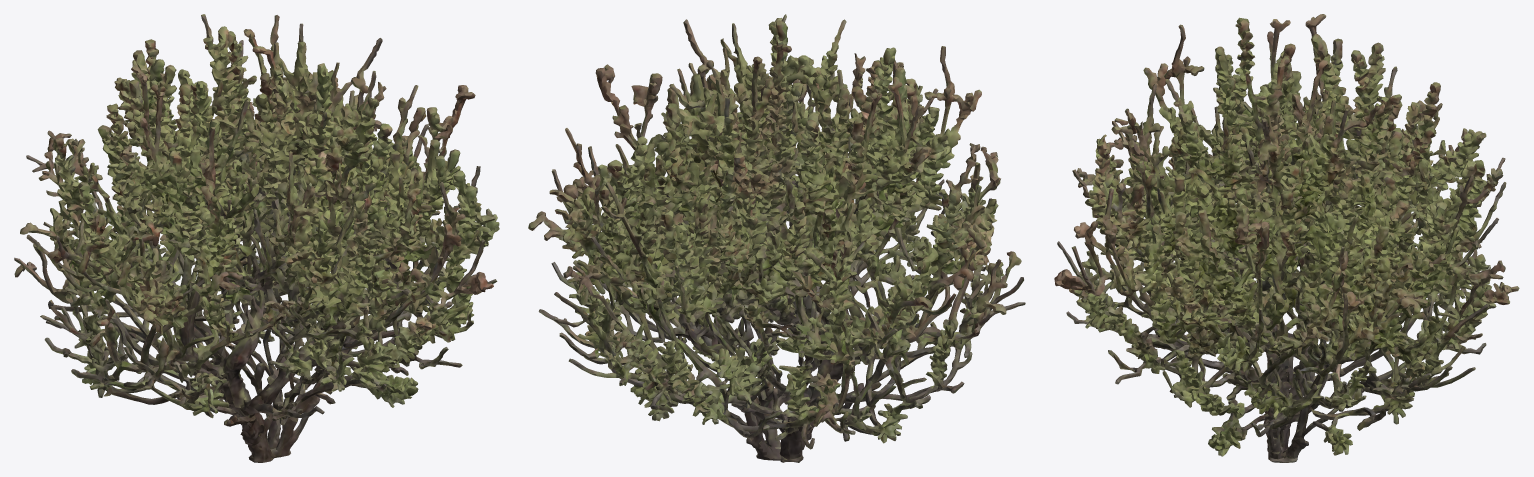
Rendered from heather-clump-v13.glb.
3 views of the same model, side by side, from view 1: azimuth 30°, elevation 25°; view 2: azimuth 150°, elevation 25°; view 3: azimuth 270°, elevation 25° (orthographic). The views are drawn at different scales.
Parts seen in each view (by area): view 1: geometry_0; view 2: geometry_0; view 3: geometry_0.
Boxes of the visible parts, <box> form: geometry_0: <box>14,14,499,462</box>; geometry_0: <box>528,14,1025,462</box>; geometry_0: <box>1054,14,1519,462</box>.
Bounding box in the file's own units: 0.45 × 0.4263 × 0.4543.
1 material, 1 textured.
